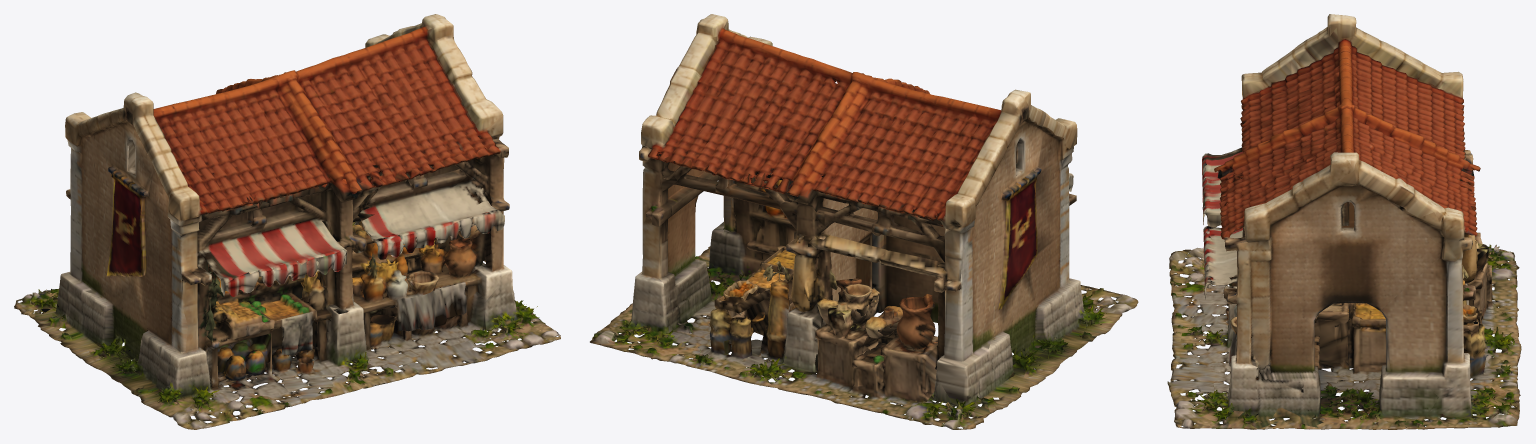
The model's file is SM_MercadoLocal.fbx.
3 renders of one model, left to right at view 1: azimuth 30°, elevation 25°; view 2: azimuth 150°, elevation 25°; view 3: azimuth 270°, elevation 25°, orthographic. The views are drawn at different scales.
Visible parts, largest first — view 1: SM_MercadoLocal; view 2: SM_MercadoLocal; view 3: SM_MercadoLocal.
Part boxes in pixels (x1,y1,x2,y2): SM_MercadoLocal: (14,14,560,429); SM_MercadoLocal: (590,14,1138,429); SM_MercadoLocal: (1167,14,1521,429).
Bounding box in the file's own units: 99.41 × 65.39 × 81.71.
Materials: 1 (1 with a texture image).
